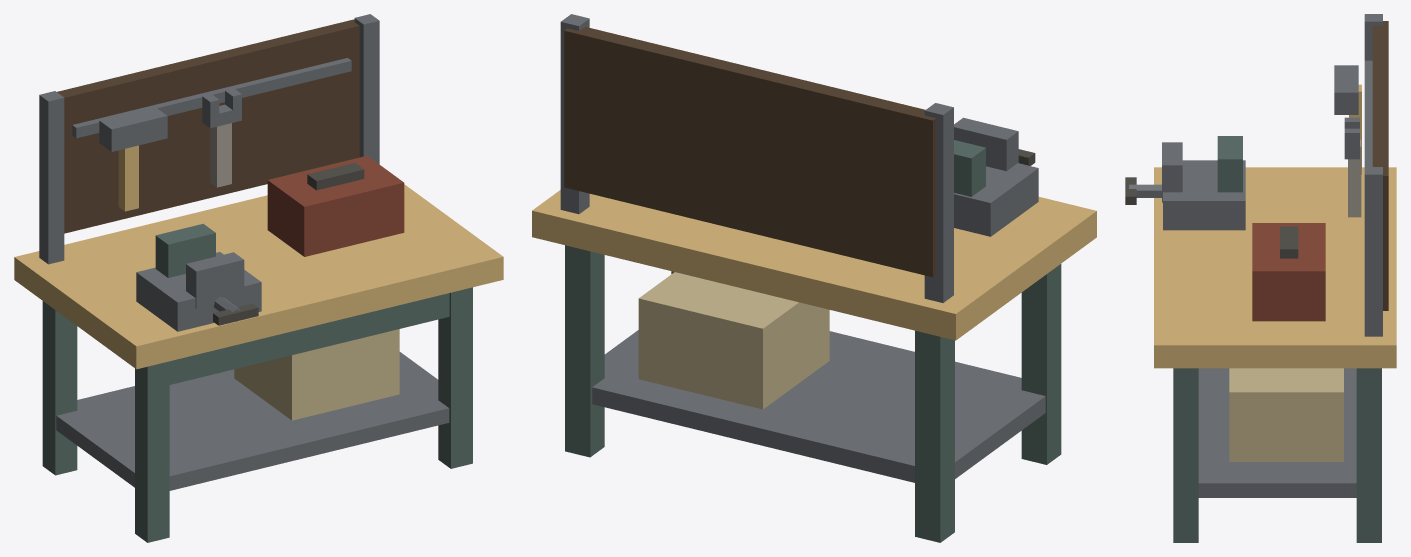
File: prop-workbench.glb
3 renders of one model, left to right at view 1: azimuth 30°, elevation 25°; view 2: azimuth 150°, elevation 25°; view 3: azimuth 270°, elevation 25°, orthographic. The views are drawn at different scales.
Visible parts, largest first — view 1: workbench; view 2: workbench; view 3: workbench.
Boxes of the visible parts, bbox=[...] form: workbench: bbox=[14, 14, 503, 542]; workbench: bbox=[532, 14, 1096, 542]; workbench: bbox=[1125, 14, 1396, 542].
Size of the model in its own units: 0.92 by 0.89 by 0.5925.
